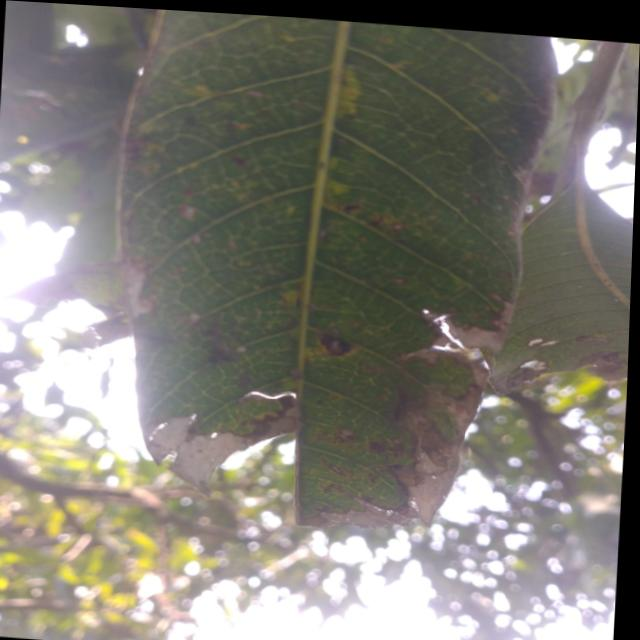Anthracnose: (316, 329, 362, 363)
Bacterial Cancer: (344, 507, 417, 533), (426, 311, 466, 355)
